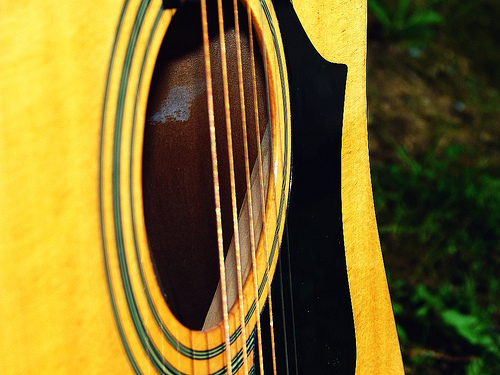guitar: (1, 1, 406, 375)
